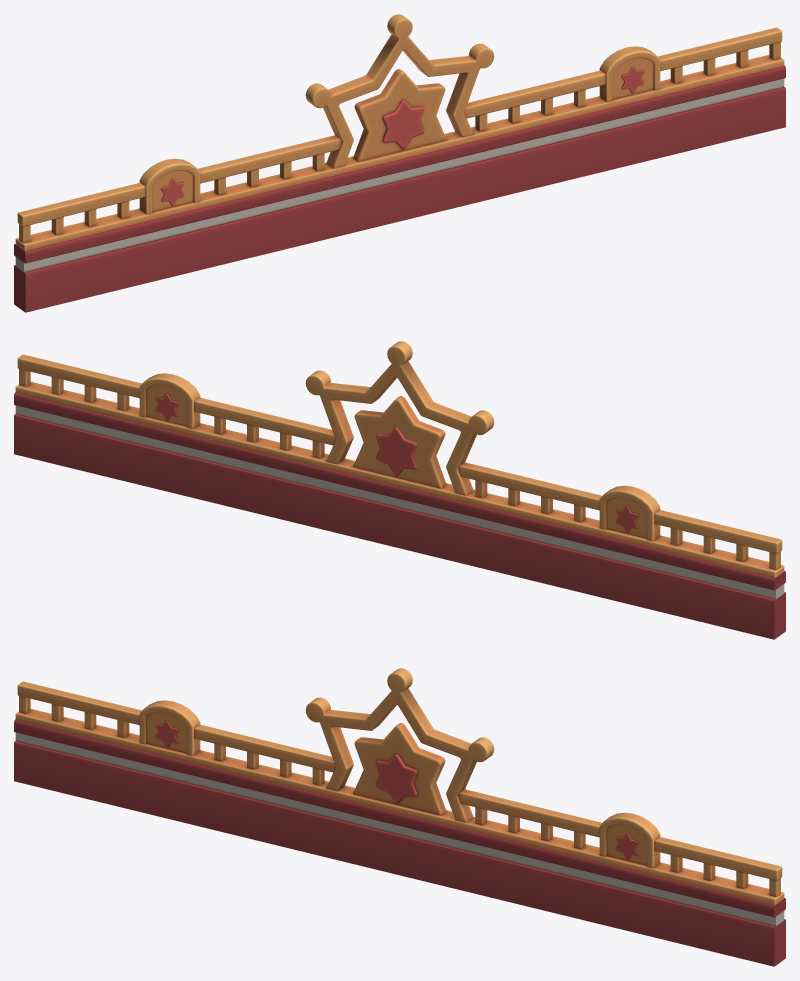
File: SM_ColorSwitchGate03.fbx
The picture shows the model from 3 angles, top to bottom: view 1: azimuth 30°, elevation 25°; view 2: azimuth 150°, elevation 25°; view 3: azimuth 330°, elevation 25°; orthographic projection.
Parts seen in each view (by area): view 1: SM_ColorSwitchGate03; view 2: SM_ColorSwitchGate03; view 3: SM_ColorSwitchGate03.
Boxes of the visible parts, bbox=[...] form: SM_ColorSwitchGate03: bbox=[14, 14, 785, 312]; SM_ColorSwitchGate03: bbox=[14, 341, 785, 639]; SM_ColorSwitchGate03: bbox=[14, 668, 785, 966].
Size of the model in its own units: 4758 by 1189 by 125.
